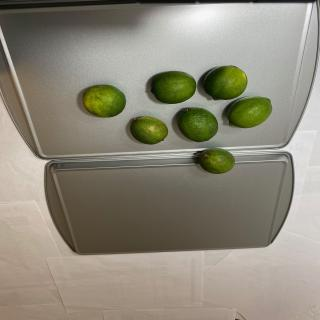Lemon: (203, 65, 248, 100), (150, 71, 197, 104), (82, 84, 126, 118), (227, 95, 272, 128), (177, 107, 219, 142), (130, 116, 168, 145), (199, 148, 235, 174)
